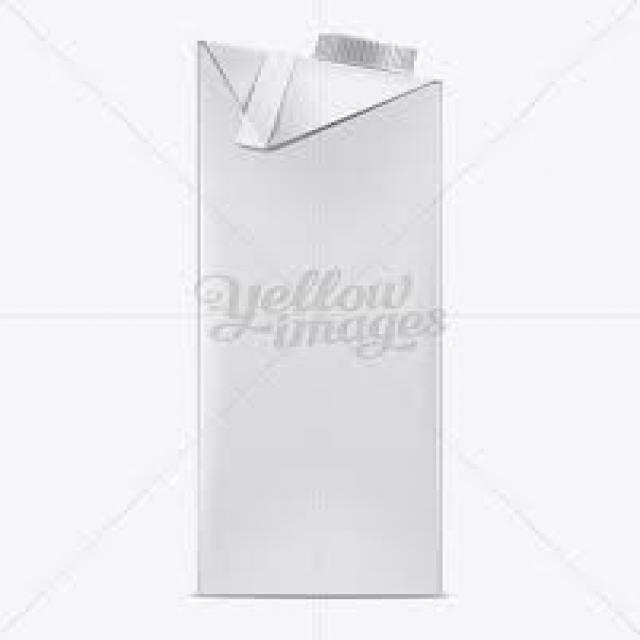non_white_jug: (174, 18, 454, 609)
